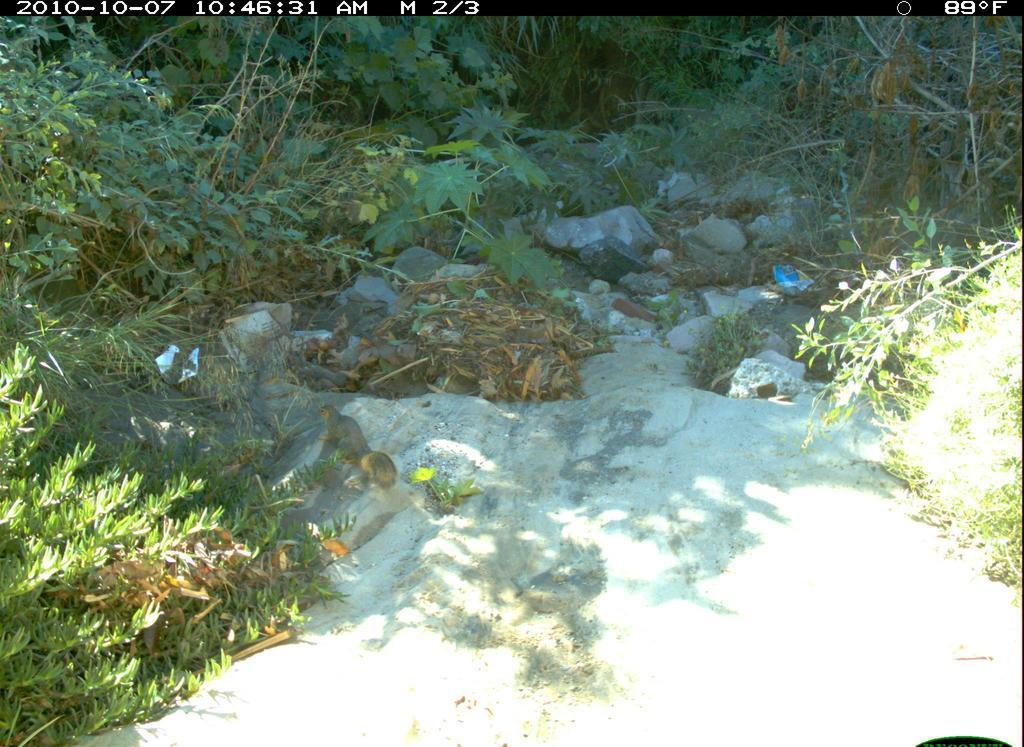squirrel: (309, 393, 408, 504)
